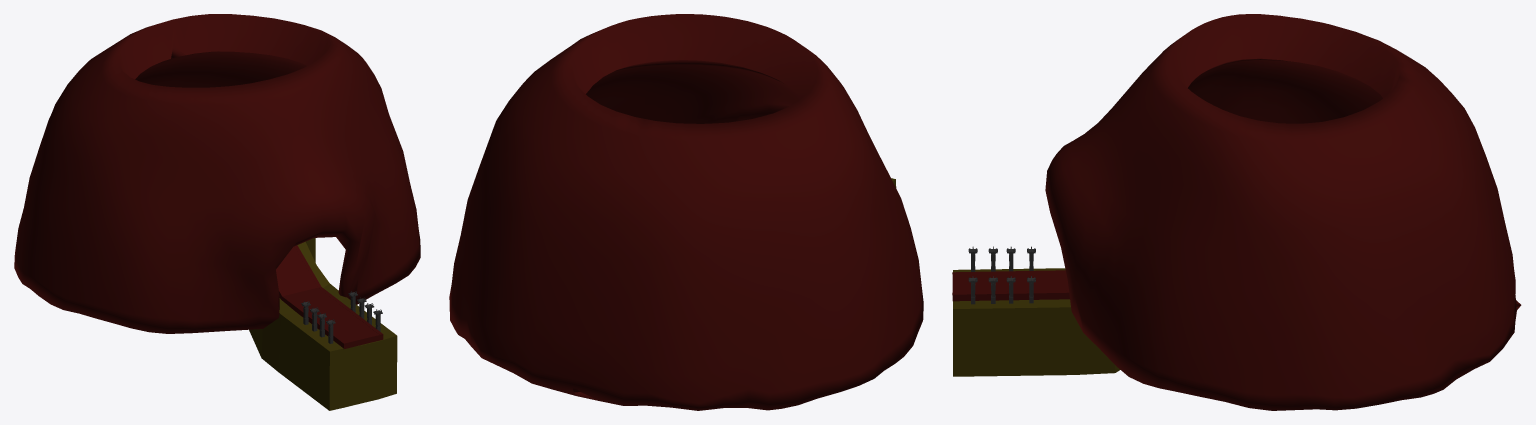
File: Zona_boss (5).fbx
The picture shows the model from 3 angles, left to right: view 1: azimuth 30°, elevation 25°; view 2: azimuth 150°, elevation 25°; view 3: azimuth 270°, elevation 25°; orthographic projection. The views are drawn at different scales.
Visible parts, largest first — view 1: Sphere, Cylinder.001, Cube.001, Cube.004; view 2: Sphere; view 3: Sphere, Cylinder.001, Cube.001, Cube.004.
Part boxes in pixels (<box>): Sphere: <box>14,14,420,333</box>; Cylinder.001: <box>249,238,397,410</box>; Cube.001: <box>276,245,383,348</box>; Cube.004: <box>301,291,382,343</box>; Sphere: <box>449,14,923,410</box>; Sphere: <box>1045,14,1521,410</box>; Cylinder.001: <box>953,268,1120,376</box>; Cube.001: <box>952,270,1069,301</box>; Cube.004: <box>968,246,1035,304</box>.
Bounding box in the file's own units: 39819 × 27160 × 46761.
